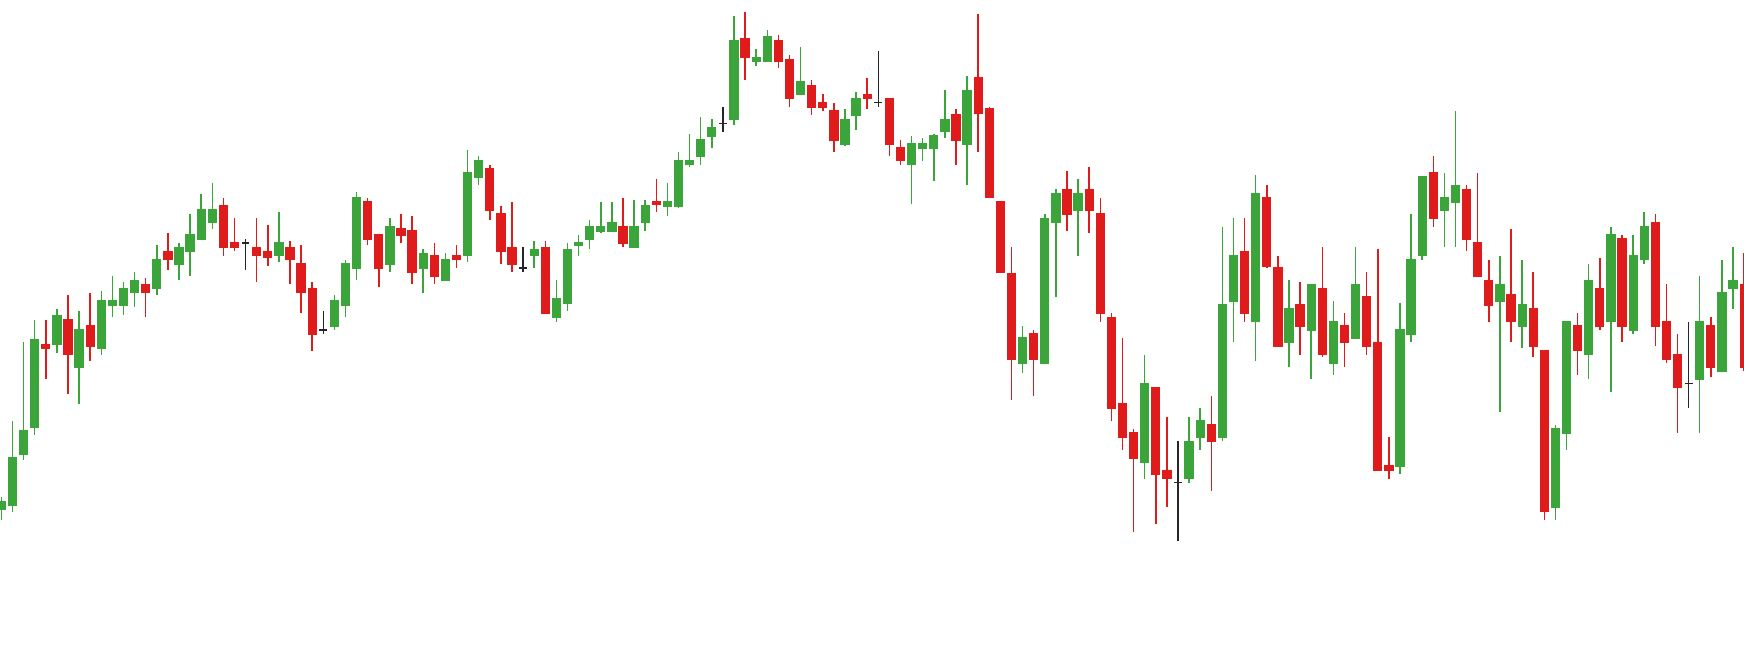buy: (1370, 301, 1560, 524), (1601, 257, 1706, 430)
sell: (1251, 145, 1441, 292), (872, 12, 984, 150)
